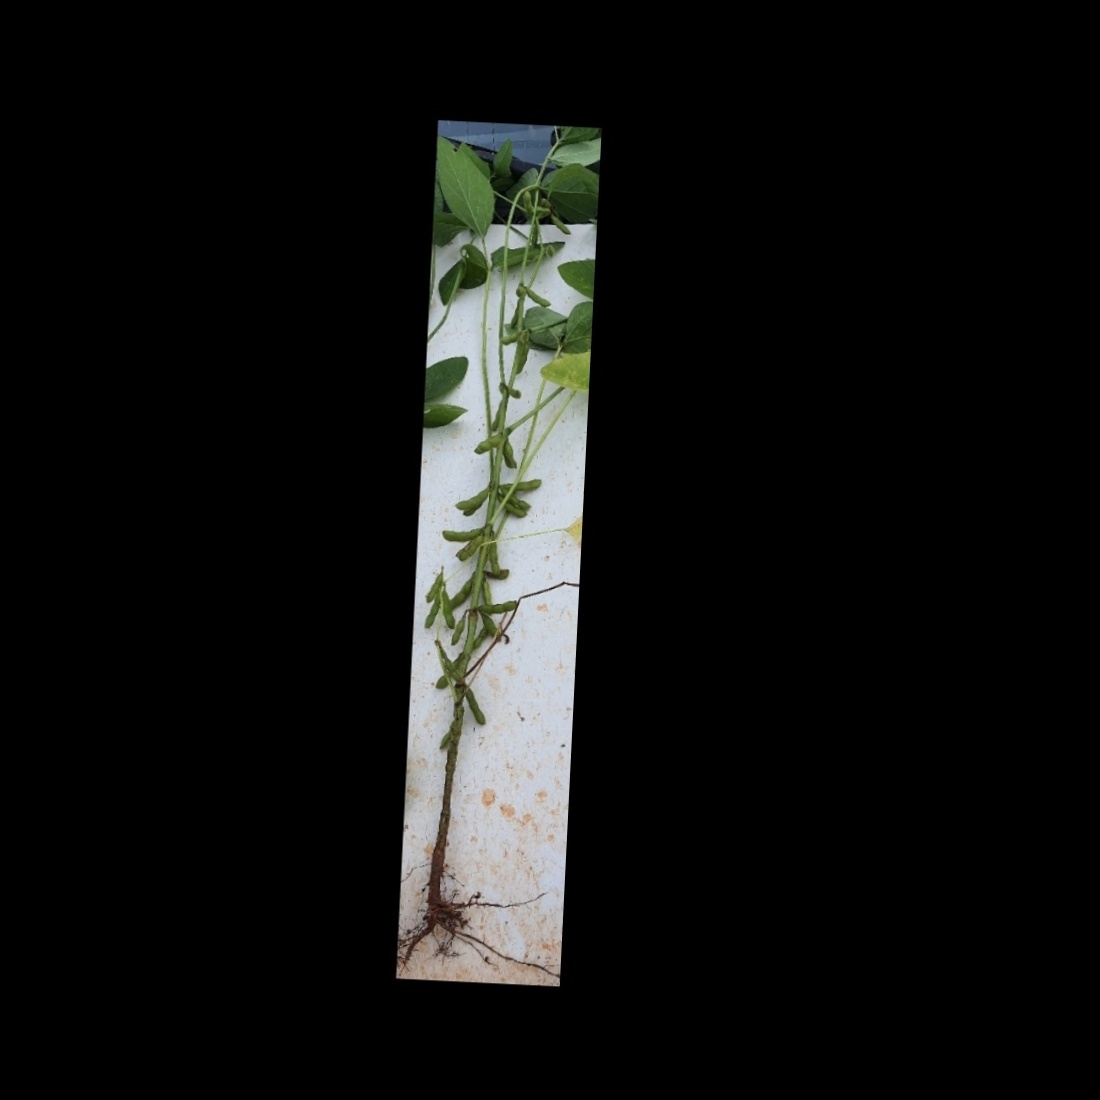pod: (462, 681, 489, 728), (448, 573, 478, 610), (423, 587, 444, 631), (441, 523, 485, 543), (476, 597, 518, 617), (434, 718, 457, 753), (439, 588, 458, 631), (424, 565, 444, 603), (549, 212, 575, 237), (524, 287, 553, 308), (480, 615, 505, 641), (450, 612, 468, 646), (520, 189, 536, 217)
soy: (414, 170, 583, 952)
